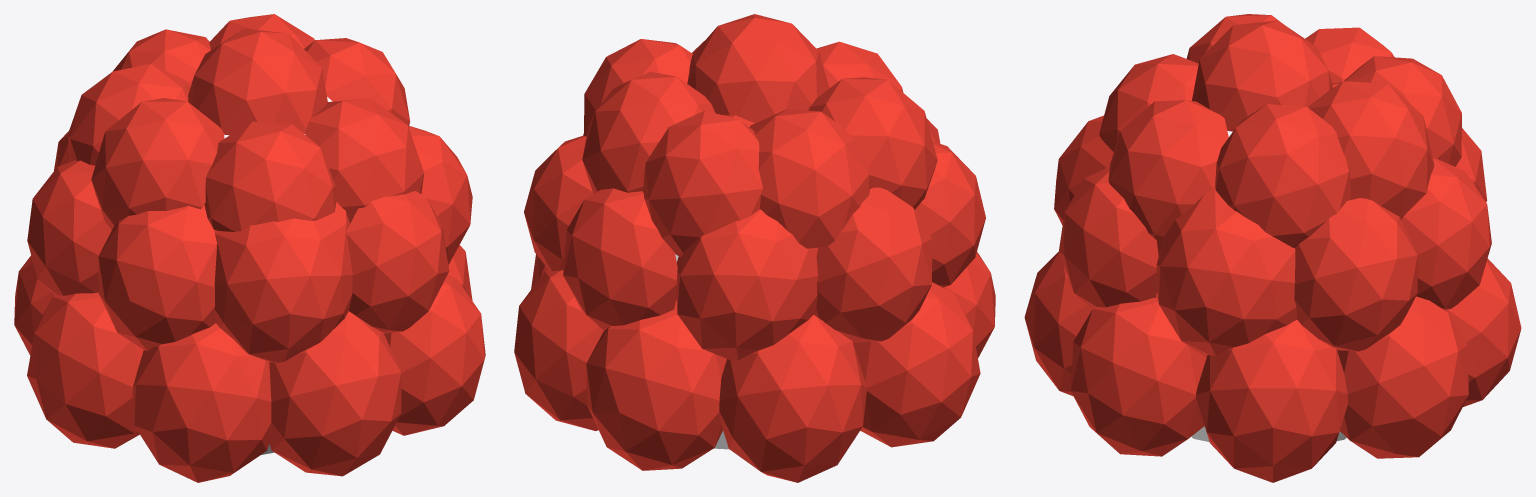
Rendered from Raspberry.glb.
3 views of the same model, side by side, from view 1: azimuth 30°, elevation 25°; view 2: azimuth 150°, elevation 25°; view 3: azimuth 270°, elevation 25° (orthographic).
Visible parts, largest first — view 1: Icosphere.001_Icosphere.003; view 2: Icosphere.001_Icosphere.003; view 3: Icosphere.001_Icosphere.003.
Part boxes in pixels (<box>): Icosphere.001_Icosphere.003: <box>14,14,485,482</box>; Icosphere.001_Icosphere.003: <box>514,14,995,482</box>; Icosphere.001_Icosphere.003: <box>1024,14,1521,482</box>.
Size of the model in its own units: 11.63 by 9.99 by 11.61.
